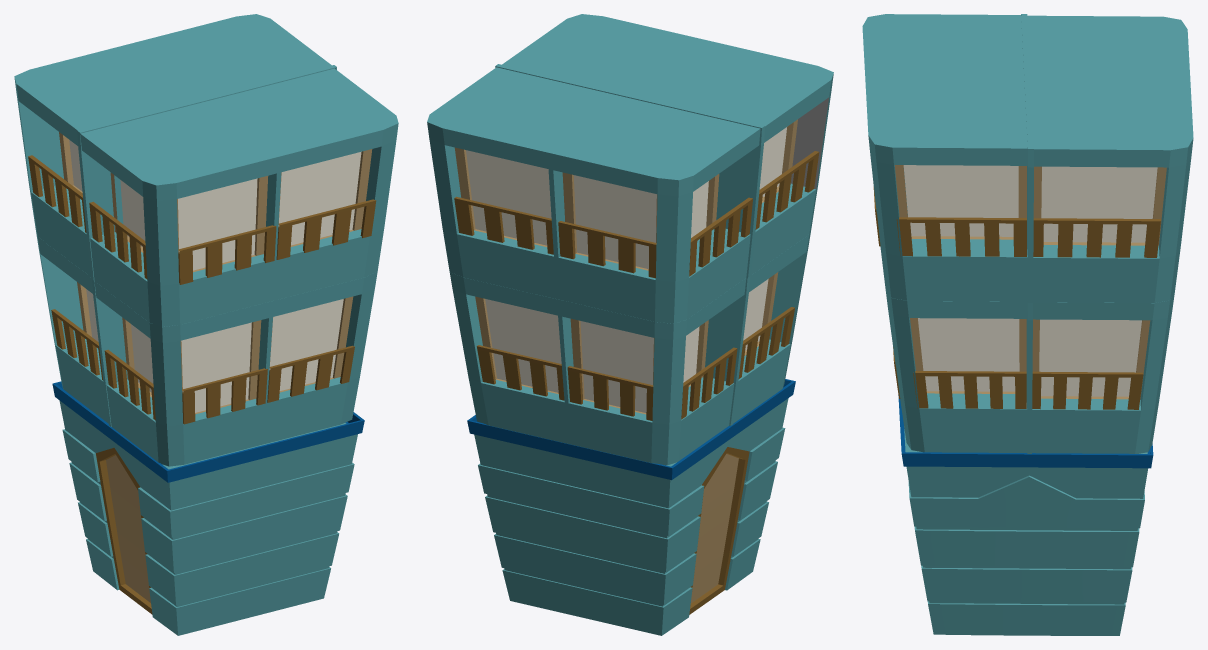
The model's file is cidade_predio01.FBX.
The picture shows the model from 3 angles, left to right: view 1: azimuth 30°, elevation 25°; view 2: azimuth 150°, elevation 25°; view 3: azimuth 270°, elevation 25°; orthographic projection. The views are drawn at different scales.
Parts seen in each view (by area): view 1: predio 05; view 2: predio 05; view 3: predio 05.
Part boxes in pixels (bbox=[...]): predio 05: bbox=[14, 14, 398, 635]; predio 05: bbox=[427, 14, 833, 635]; predio 05: bbox=[862, 14, 1193, 635].
Size of the model in its own units: 10.82 by 11.12 by 19.1.
